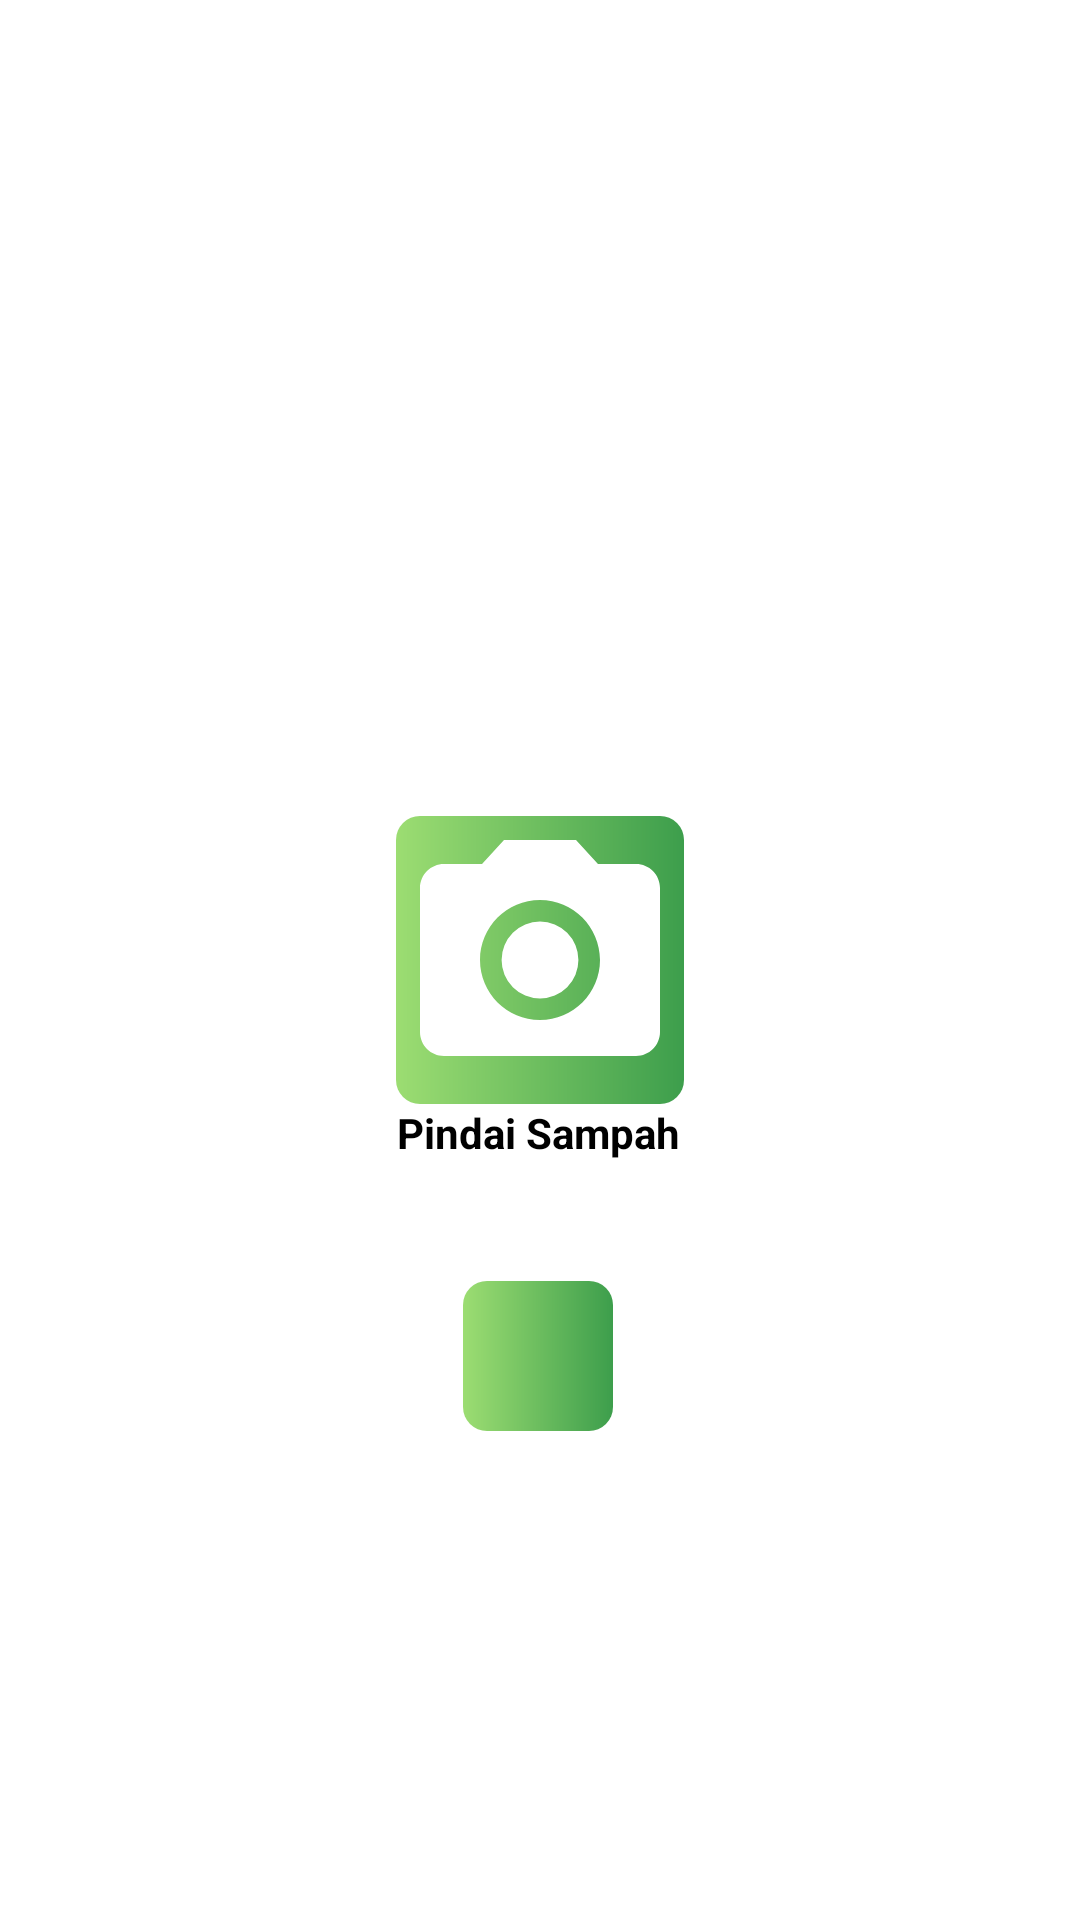

Icons on this 1080*1920 Android screen, each with its box as (x1, y1, x2, y2):
camera: (396, 816, 684, 1104)
